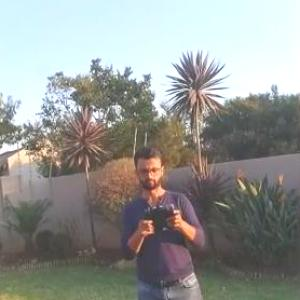follow: (116, 138, 210, 299)
